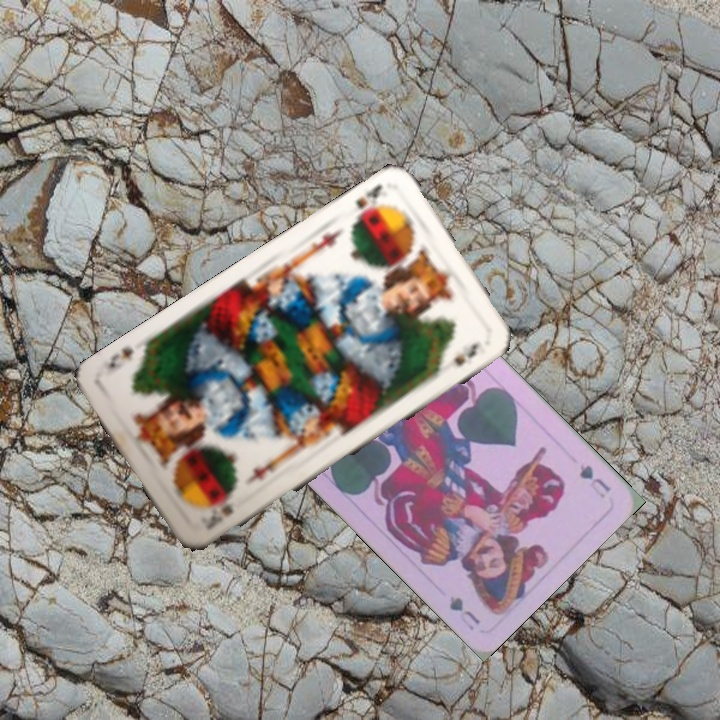GU: (575, 460, 613, 501)
SK: (347, 180, 385, 227), (203, 498, 236, 527)
